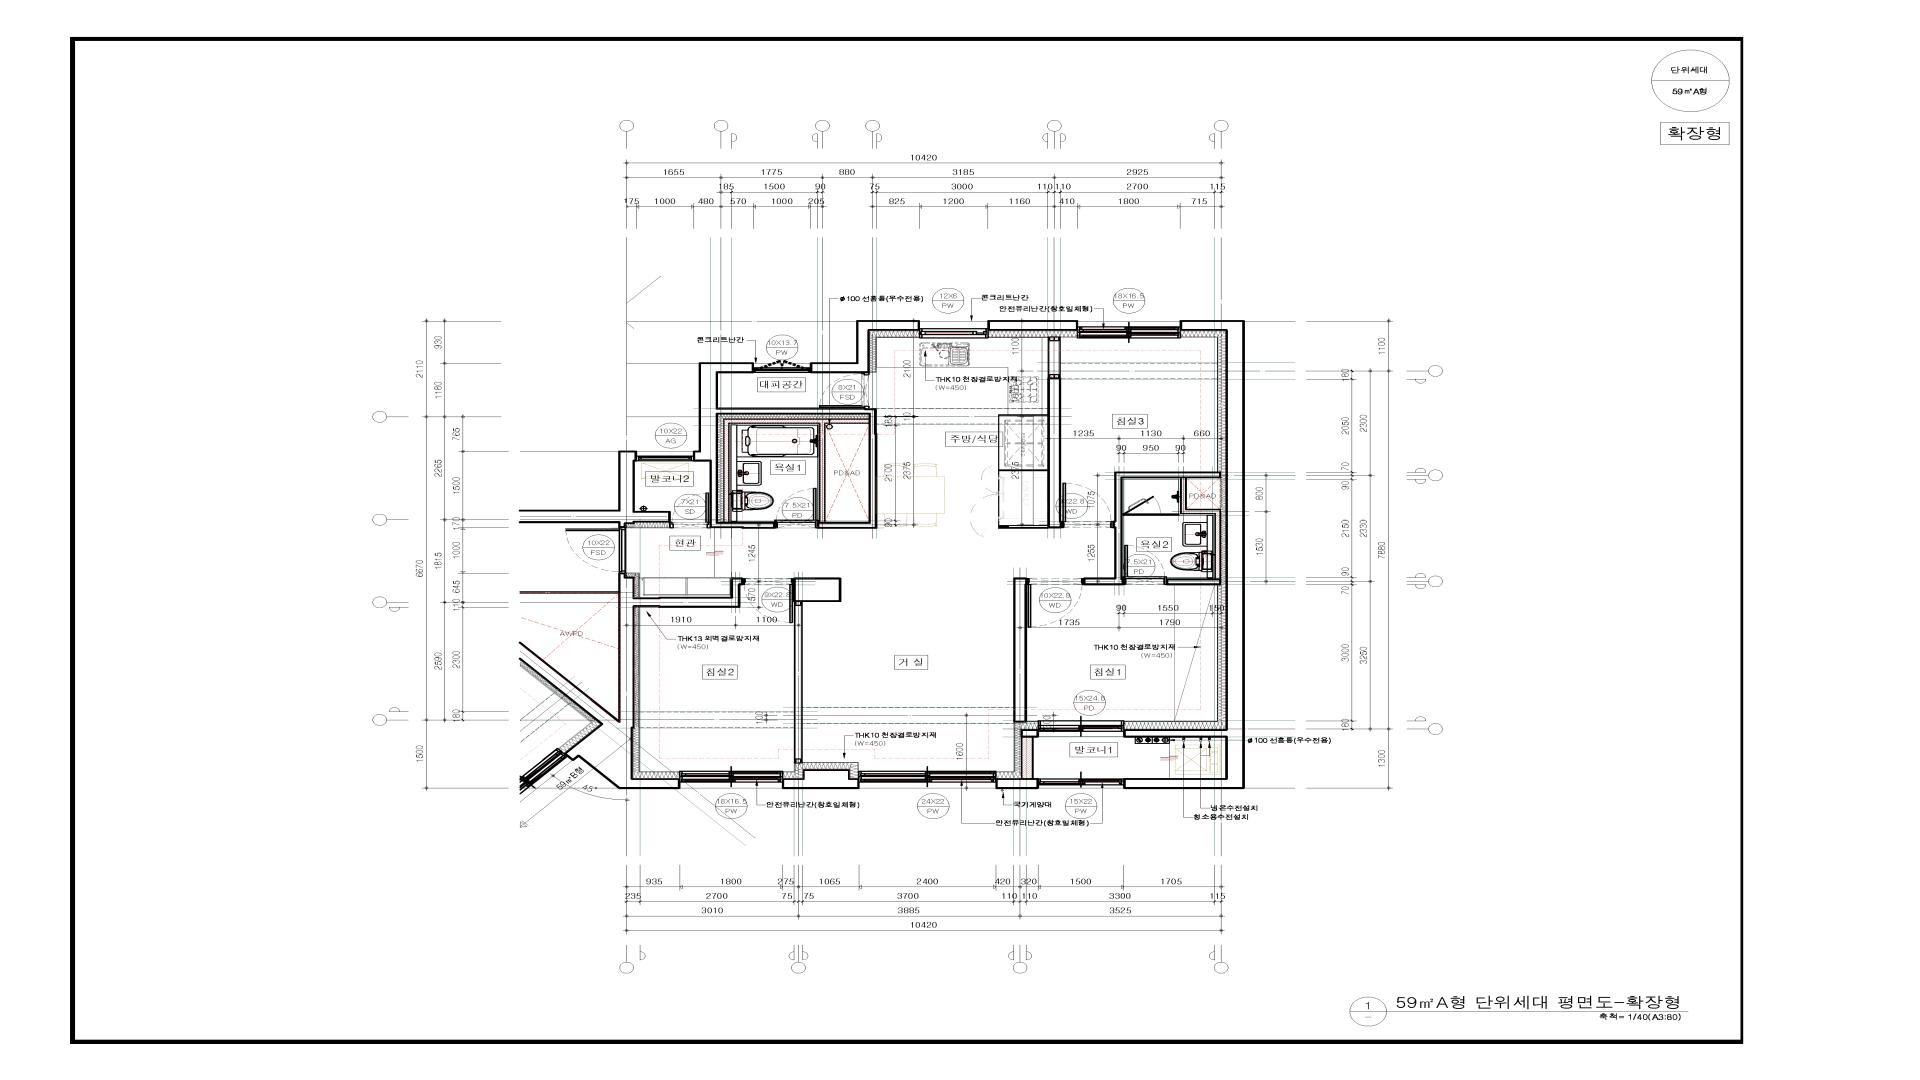door: (564, 527, 626, 574), (1027, 578, 1084, 628), (1062, 481, 1112, 529), (744, 578, 794, 622), (774, 487, 819, 529), (1124, 545, 1167, 585), (670, 492, 709, 529), (1124, 496, 1162, 516)
wall: (1125, 320, 1245, 789), (694, 361, 877, 529), (618, 572, 744, 789), (1084, 471, 1221, 585), (723, 418, 869, 522), (794, 578, 841, 764), (810, 319, 919, 373), (618, 451, 670, 527), (1047, 336, 1062, 529), (1013, 578, 1027, 723), (783, 769, 858, 789), (989, 319, 1077, 331), (1021, 729, 1038, 778), (997, 778, 1038, 789)
window: (858, 770, 997, 791), (1077, 319, 1182, 339), (679, 771, 783, 789), (1038, 720, 1125, 737), (919, 320, 989, 339), (1038, 778, 1125, 791), (753, 360, 810, 373), (637, 451, 694, 462)
